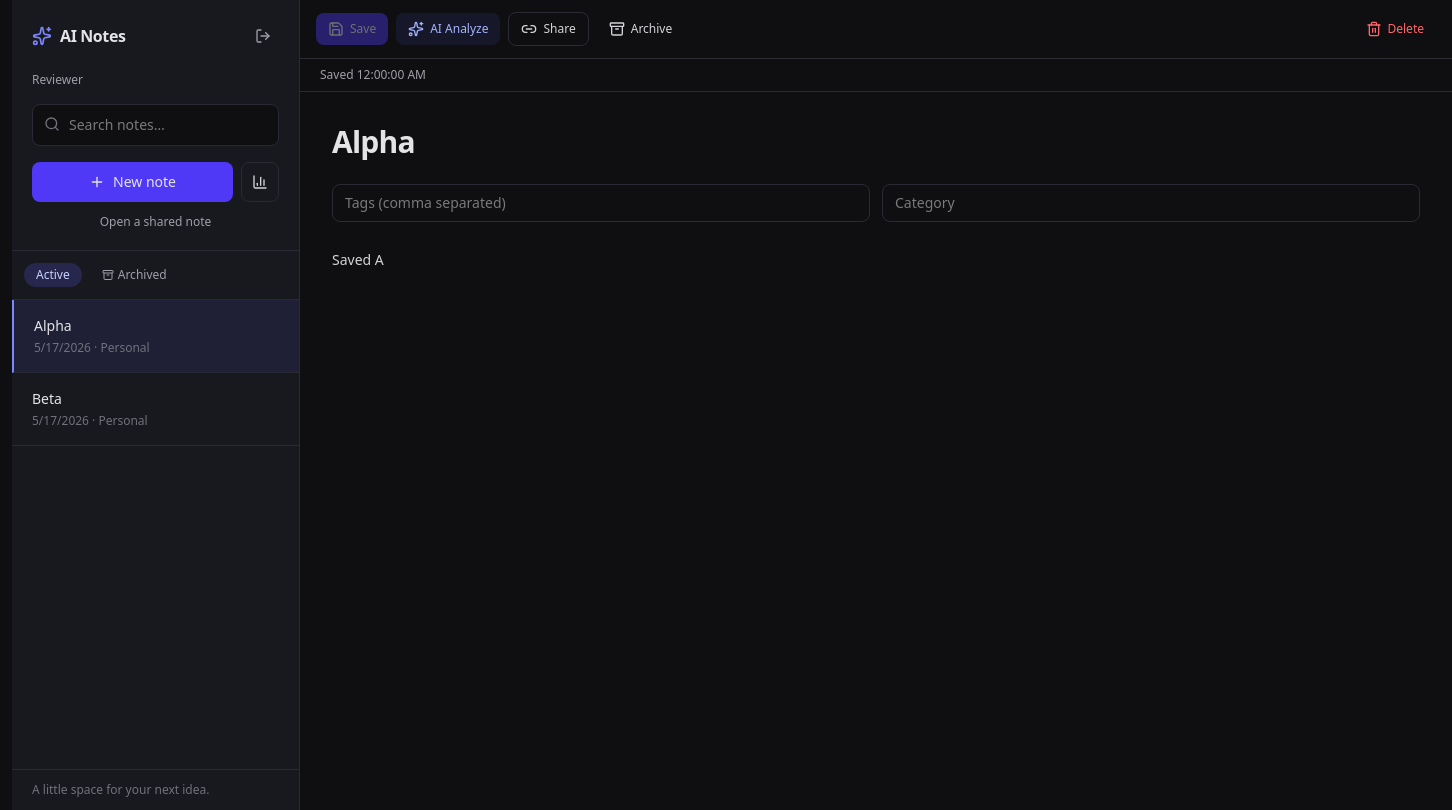
Test case: retains unsaved drafts when switching away and back
The image size is (1452, 810).
Step 1. Replace the text in the text box named "Note content" with "Unsaved A" → (876, 426), box [332,246,1420,606]
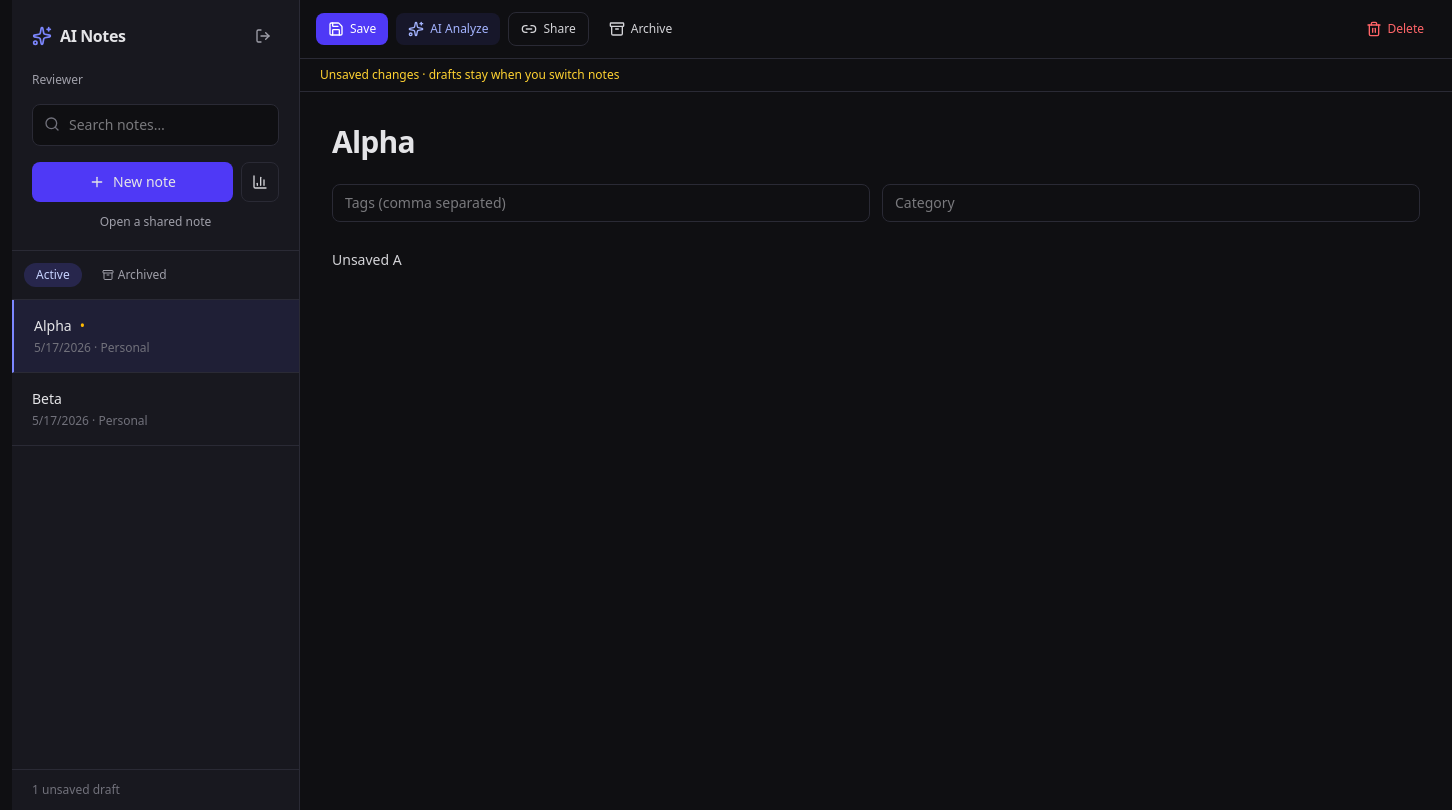
Step 2. Click the button "Beta 5/17/2026 · Personal" → click(60, 420), box [12,373,299,446]
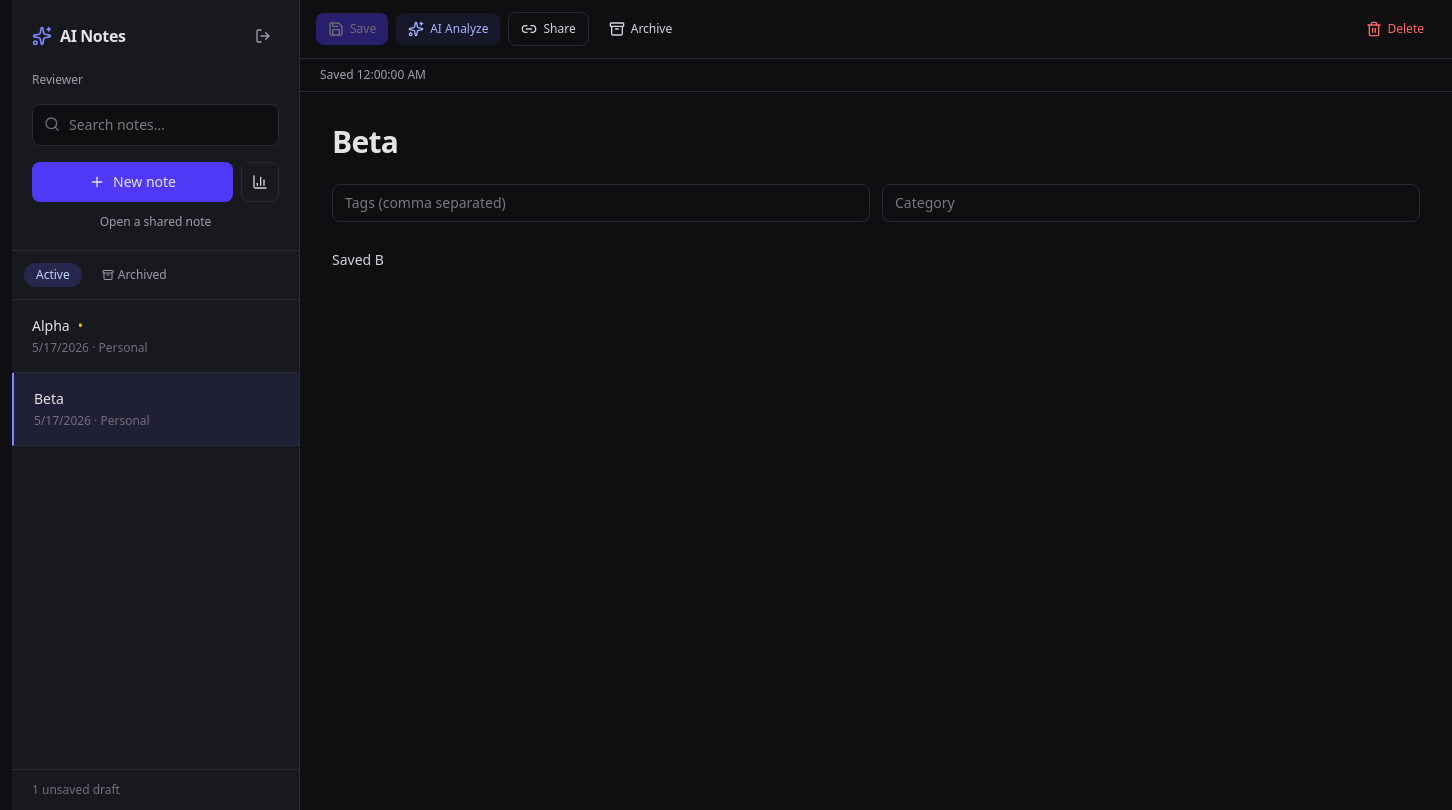
Expected: the text box named "Note content" holds "Saved B", [332,246,1420,606]
Step 3. Click the button "Alpha• 5/17/2026 · Personal" → click(51, 326), box [12,300,299,373]
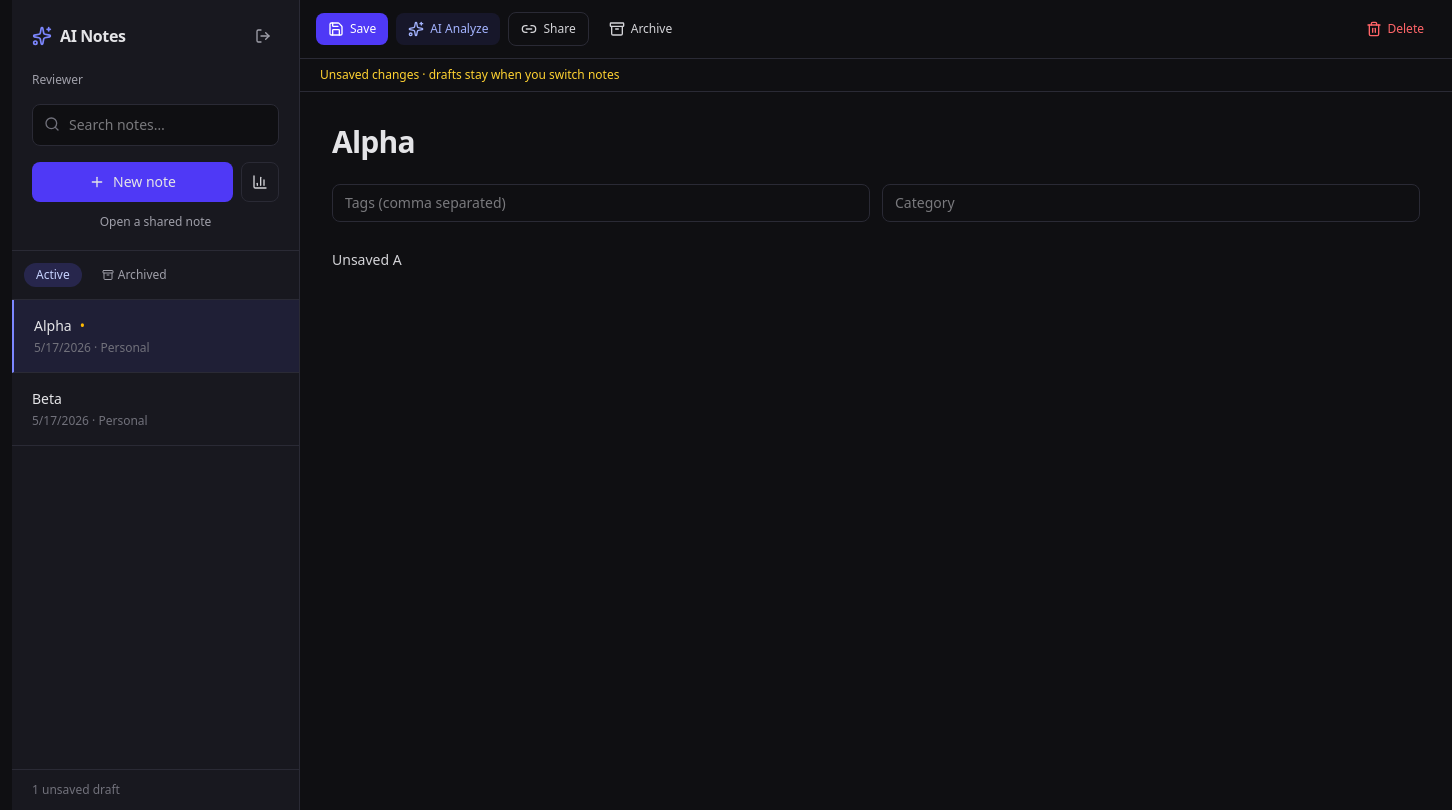
Expected: the text box named "Note content" holds "Unsaved A", [332,246,1420,606]
